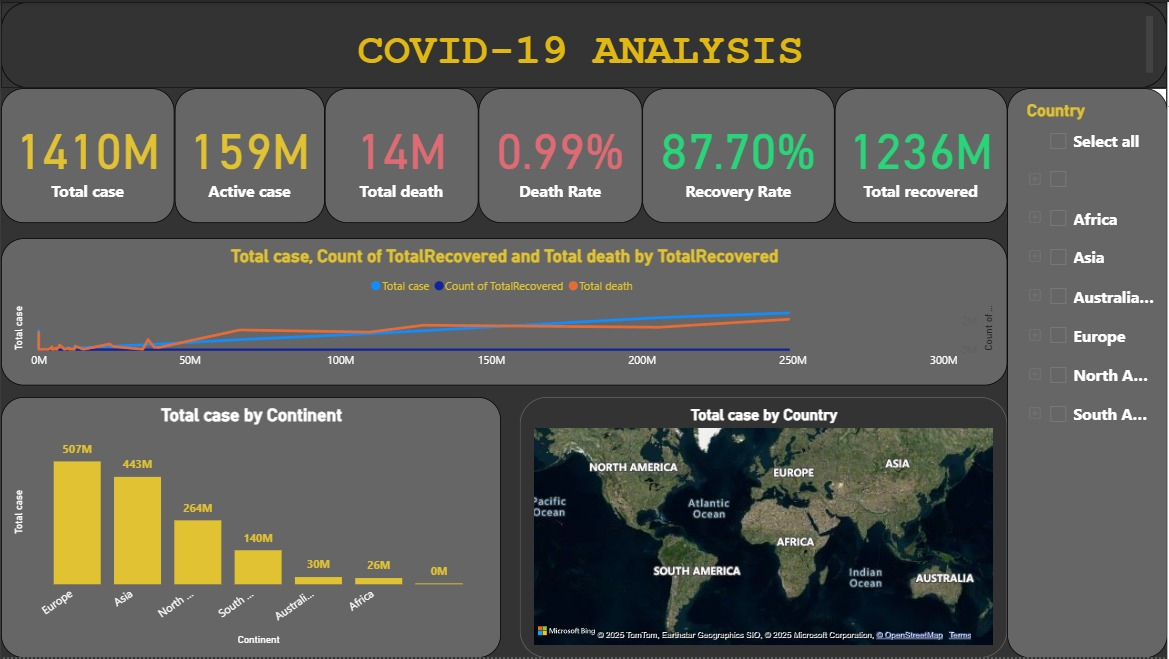

This screenshot's page, from the dashboard's own definition file:
{"tool":"powerbi","page":{"name":"covid-19 analysis","canvas":[1280,720],"ordinal":0},"visuals":[{"type":"card","fields":{"Values":["Table 1.Death Rate"]},"box":[524.2,94.7,179.8,148.2],"z":0},{"type":"card","fields":{"Values":["Table 1.Recovery Rate"]},"box":[703.9,94.7,211.3,148.2],"z":1000},{"type":"card","fields":{"Values":["Table 1.Total recovered"]},"box":[915.3,94.7,189.4,148.2],"z":2000},{"type":"card","fields":{"Values":["Table 1.Active case"]},"box":[190.7,94.7,164.7,148.2],"z":3000},{"type":"textbox","box":[0,0,1280.3,94.7],"z":4000},{"type":"card","fields":{"Values":["Sum(Table 1.TotalDeaths)"]},"box":[355.4,94.7,168.8,148.2],"z":5000},{"type":"filledMap","title":" Total case by Country","fields":{"Category":["Table 1.Country,Other"]},"box":[569.5,433.6,535.2,286.8],"z":6000},{"type":"card","fields":{"Values":["Table 1.Total case"]},"box":[0,94.7,190.7,148.2],"z":7000},{"type":"columnChart","fields":{"Y":["Table 1.Total case"],"Category":["Table 1.Continent"]},"box":[0,433.6,548.9,286.8],"z":8000},{"type":"slicer","fields":{"Values":["Table 1.Continent","Table 1.Country,Other"]},"box":[1104.6,94.7,175.6,625.7],"z":9000},{"type":"lineChart","fields":{"Y":["Table 1.Total case"],"Y2":["CountNonNull(Table 1.TotalRecovered)","Table 1.Total death"],"Category":["Table 1.TotalRecovered"]},"box":[0,259.3,1104.6,161.9],"z":10000}]}

Visuals, with their boxes in screenshot pixels (x1, y1, x2, y2), scaled from the page's 1280x720 canvas onto the 1169x659 screenshot:
card - Table 1.Death Rate: bbox=(479, 87, 643, 222)
card - Table 1.Recovery Rate: bbox=(643, 87, 836, 222)
card - Table 1.Total recovered: bbox=(836, 87, 1009, 222)
card - Table 1.Active case: bbox=(174, 87, 325, 222)
textbox: bbox=(0, 0, 1168, 87)
card - Sum(Table 1.TotalDeaths): bbox=(325, 87, 479, 222)
" Total case by Country" filledMap: bbox=(520, 397, 1009, 658)
card - Table 1.Total case: bbox=(0, 87, 174, 222)
columnChart - Table 1.Total case x Table 1.Continent: bbox=(0, 397, 501, 658)
slicer - Table 1.Continent x Table 1.Country,Other: bbox=(1009, 87, 1168, 658)
lineChart - Table 1.Total case x CountNonNull(Table 1.TotalRecovered): bbox=(0, 237, 1009, 386)
